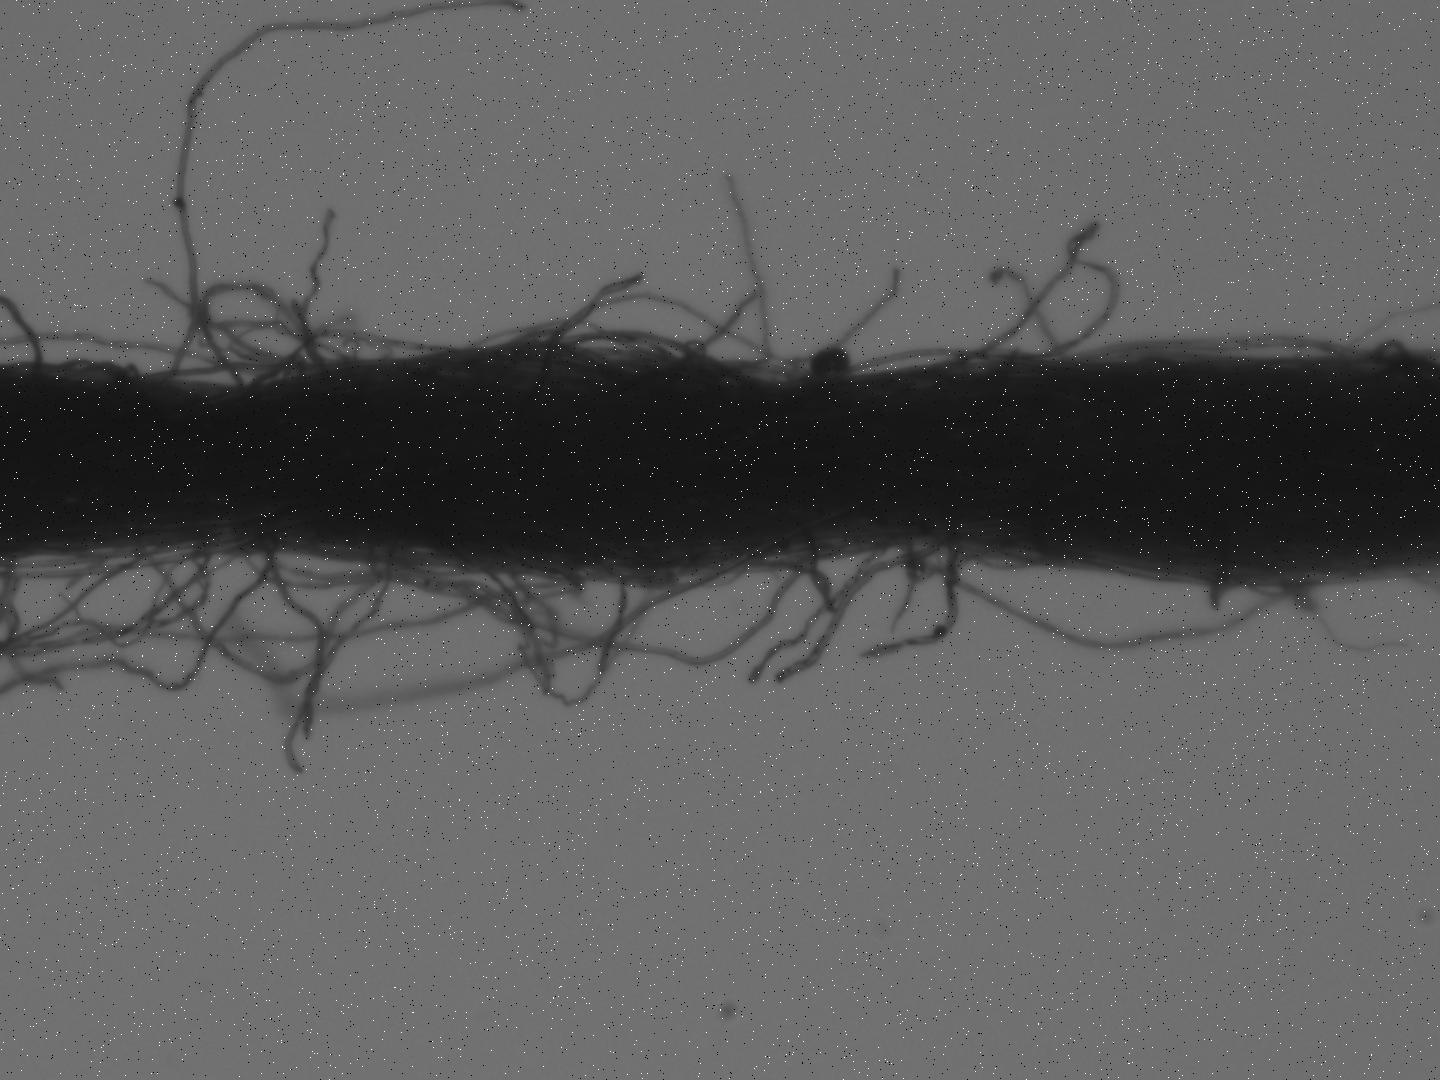loop_fiber: (932, 210, 1125, 379), (2, 529, 215, 655), (363, 532, 560, 649), (201, 276, 331, 412), (729, 522, 846, 619), (900, 521, 1057, 590), (234, 532, 371, 597), (1200, 558, 1337, 617), (560, 326, 717, 377), (579, 548, 701, 596), (797, 334, 874, 393), (1362, 332, 1428, 376)
protruding_fiber: (160, 0, 528, 400), (796, 261, 905, 366), (725, 163, 774, 388)
